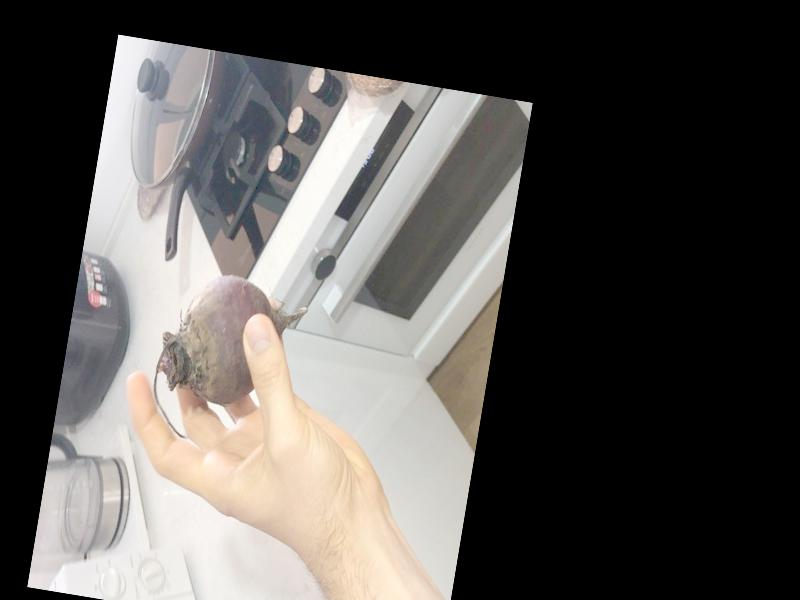Beet: (146, 266, 310, 452)
